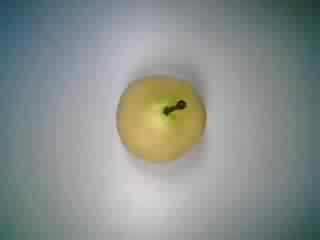pear: (106, 65, 215, 167)
